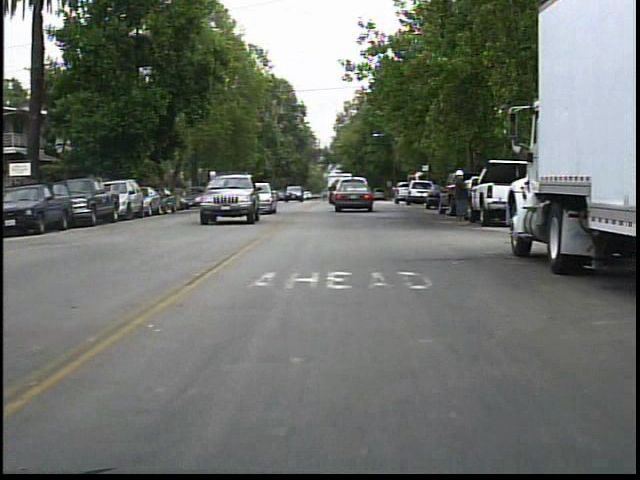person: (448, 167, 476, 228)
